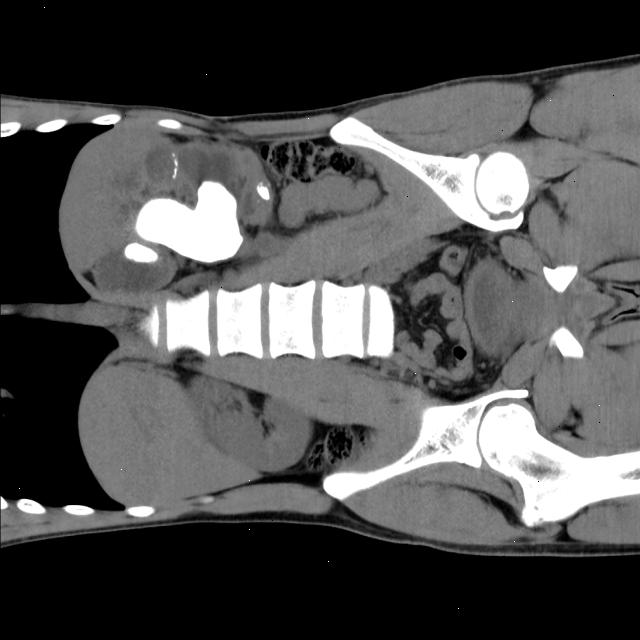kidneystone: (137, 182, 243, 261), (125, 242, 158, 261), (256, 182, 270, 199)
